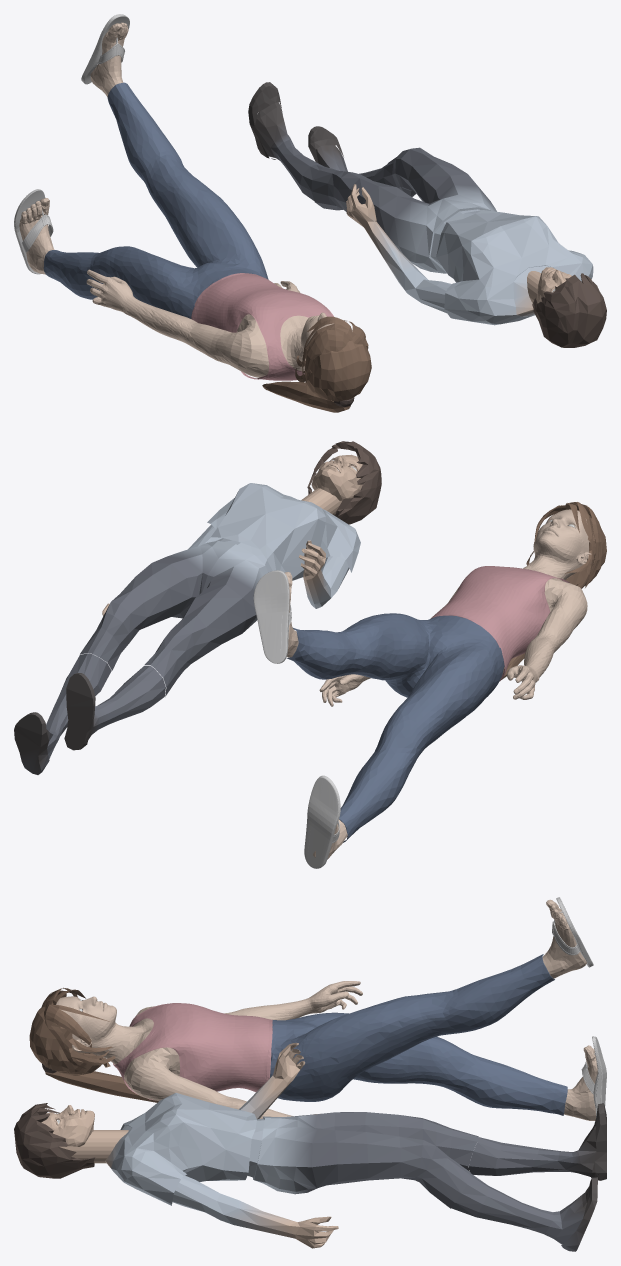
File: couple_prepared.glb
The picture shows the model from 3 angles, top to bottom: view 1: azimuth 30°, elevation 25°; view 2: azimuth 150°, elevation 25°; view 3: azimuth 270°, elevation 25°; orthographic projection. The views are drawn at different scales.
Visible parts, largest first — view 1: Group_001, Group_005, Group_008, Group_007, Group_020, Group_004, Group_022, Group_024, Group_002; view 2: Group_001, Group_005, Group_008, Group_007, Group_024, Group_022, Group_004, Group_020, Group_002; view 3: Group_001, Group_005, Group_008, Group_007, Group_020, Group_004, Group_002, Group_003, Group_022, Group_024.
Boxes of the visible parts, x1,y1,x2,y2 form: Group_001: [248, 82, 593, 325]; Group_005: [43, 82, 268, 318]; Group_008: [19, 22, 352, 377]; Group_007: [191, 273, 333, 380]; Group_020: [262, 316, 371, 412]; Group_004: [532, 273, 606, 347]; Group_022: [14, 189, 53, 274]; Group_024: [81, 14, 129, 84]; Group_002: [537, 267, 571, 303]; Group_001: [14, 483, 360, 774]; Group_005: [286, 613, 504, 842]; Group_008: [284, 509, 591, 859]; Group_007: [431, 566, 569, 681]; Group_024: [253, 570, 291, 663]; Group_022: [304, 775, 340, 868]; Group_004: [307, 441, 381, 524]; Group_020: [502, 502, 606, 679]; Group_002: [311, 454, 362, 500]; Group_001: [105, 1042, 606, 1251]; Group_005: [270, 954, 567, 1115]; Group_008: [56, 899, 597, 1120]; Group_007: [113, 1003, 272, 1100]; Group_020: [29, 987, 158, 1102]; Group_004: [14, 1103, 95, 1178]; Group_002: [41, 1105, 94, 1146]; Group_003: [59, 1130, 128, 1163]; Group_022: [581, 1036, 606, 1117]; Group_024: [552, 897, 593, 967].
Size of the model in its own units: 1.47 by 0.8546 by 1.81.
